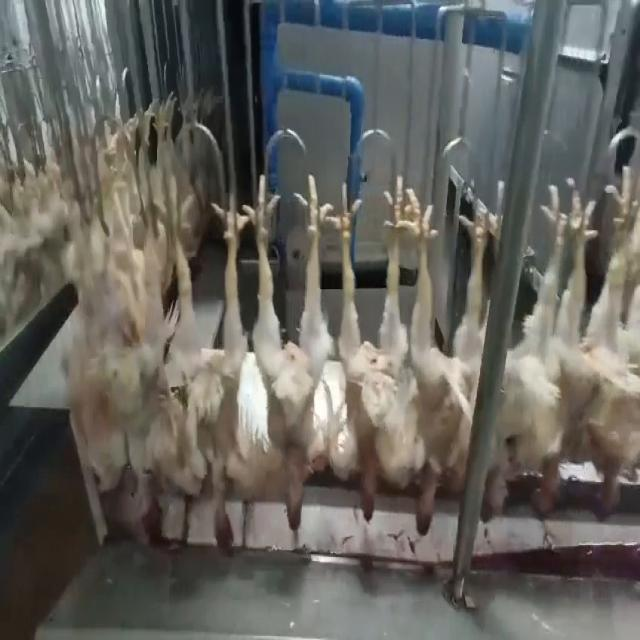chicken: (393, 189, 496, 539), (238, 167, 334, 534), (320, 184, 414, 522), (487, 173, 574, 525), (168, 168, 245, 556), (85, 203, 169, 540), (575, 167, 640, 526)
